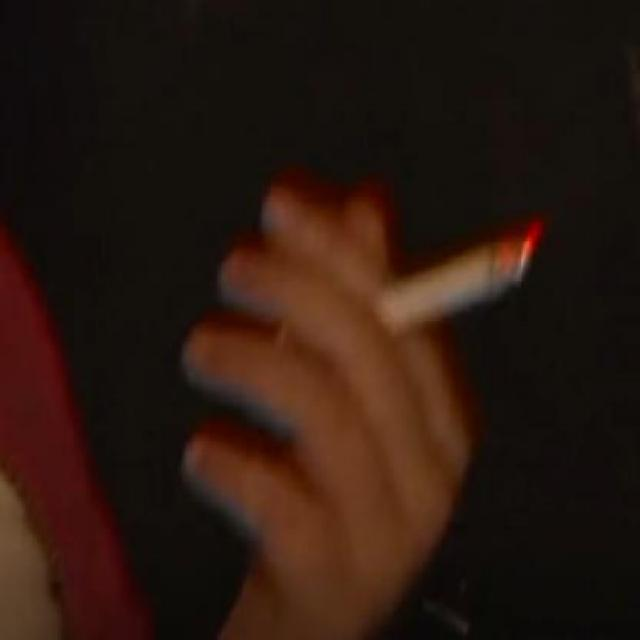cigarette: (260, 174, 549, 369)
